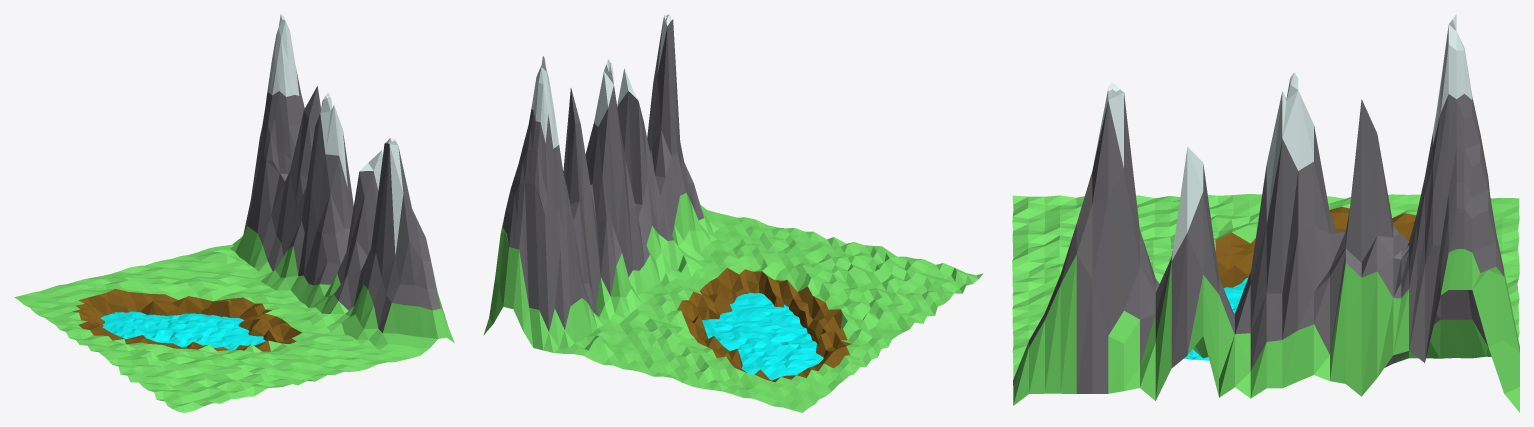
File: coba.fbx
3 views of the same model, side by side, from view 1: azimuth 30°, elevation 25°; view 2: azimuth 150°, elevation 25°; view 3: azimuth 270°, elevation 25° (orthographic). The views are drawn at different scales.
Visible parts, largest first — view 1: Plane, Plane.001; view 2: Plane, Plane.001; view 3: Plane, Plane.001.
Boxes of the visible parts, x1,y1,x2,y2 form: Plane: (14, 14, 454, 412); Plane.001: (100, 311, 266, 350); Plane: (483, 14, 983, 412); Plane.001: (702, 292, 823, 380); Plane: (1012, 14, 1519, 412); Plane.001: (1184, 278, 1247, 360).
Bounding box in the file's own units: 1602 × 1456 × 1602.
